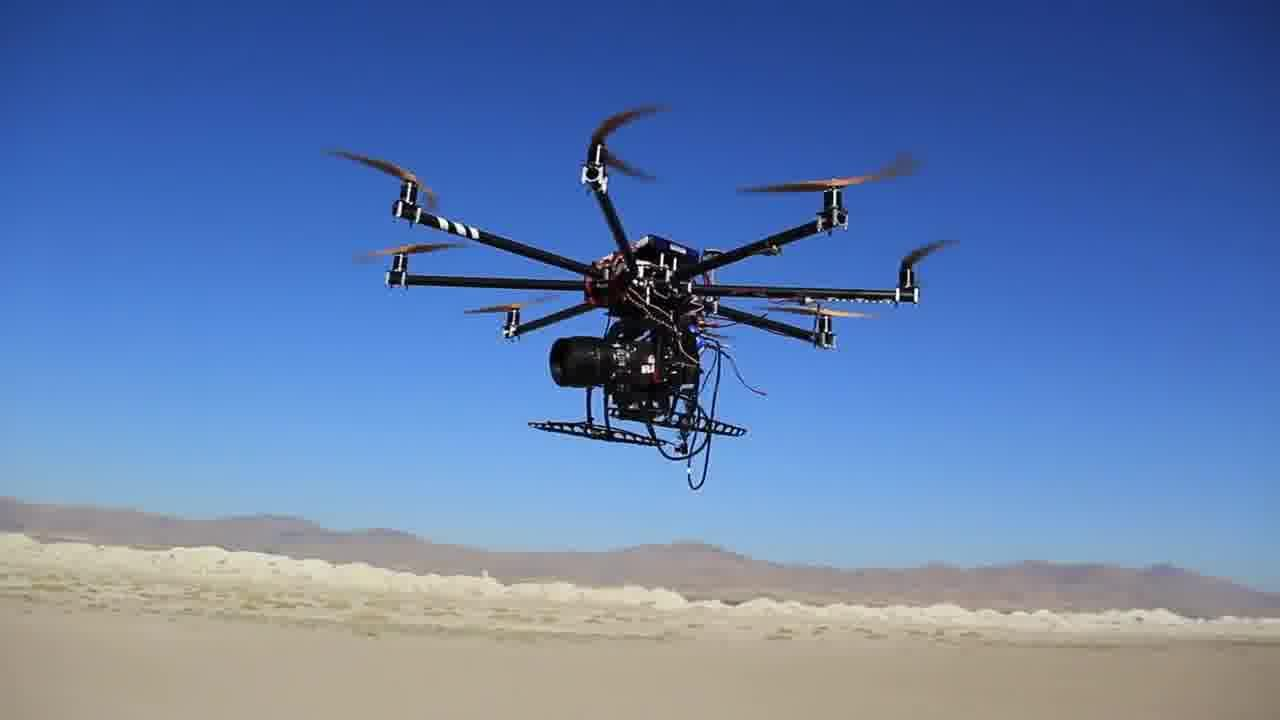drone: (315, 66, 856, 469)
